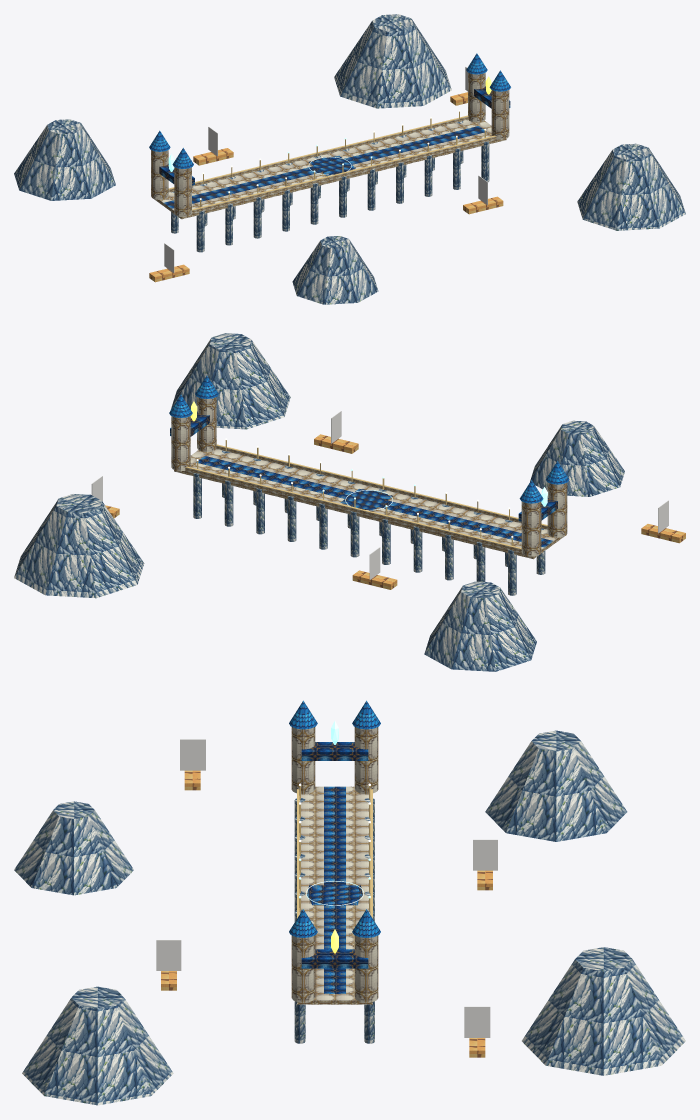
File: arena_02_ocean_bridge.glb
3 renders of one model, top to bottom at view 1: azimuth 30°, elevation 25°; view 2: azimuth 150°, elevation 25°; view 3: azimuth 270°, elevation 25°, orthographic. The views are drawn at different scales.
Visible parts, largest first — view 1: Batch_Mat_Stone, Arena_Bridge_Floor, Batch_Mat_Marble, Batch_Mat_Brass, Batch_Mat_Wood, Batch_Mat_RoofBlue, Batch_Mat_Sail; view 2: Batch_Mat_Stone, Arena_Bridge_Floor, Batch_Mat_Marble, Batch_Mat_Brass, Batch_Mat_Wood, Batch_Mat_RoofBlue, Batch_Mat_Sail; view 3: Batch_Mat_Stone, Arena_Bridge_Floor, Batch_Mat_Marble, Batch_Mat_Sail, Batch_Mat_RoofBlue, Batch_Mat_Wood, Batch_Mat_Brass.
Boxes of the visible parts, x1,y1,x2,y2 form: Batch_Mat_Stone: (14,14,685,304); Arena_Bridge_Floor: (151,72,509,219); Batch_Mat_Marble: (159,86,510,208); Batch_Mat_Brass: (168,111,496,210); Batch_Mat_Wood: (149,92,503,282); Batch_Mat_RoofBlue: (149,53,510,168); Batch_Mat_Sail: (164,66,487,272); Batch_Mat_Stone: (14,333,624,671); Arena_Bridge_Floor: (171,397,567,559); Batch_Mat_Marble: (170,411,557,547); Batch_Mat_Brass: (185,440,547,549); Batch_Mat_Wood: (105,434,685,589); Batch_Mat_RoofBlue: (169,375,569,503); Batch_Mat_Sail: (91,411,668,579); Batch_Mat_Stone: (14,730,685,1105); Arena_Bridge_Floor: (291,727,378,1004); Batch_Mat_Marble: (301,742,368,993); Batch_Mat_Sail: (156,739,497,1037); Batch_Mat_RoofBlue: (289,700,380,937); Batch_Mat_Wood: (161,770,492,1057); Batch_Mat_Brass: (297,786,372,918).
Size of what is drawn, in the model's own units: 485 by 99.99 by 425.
Materials: 10 (10 with a texture image).
